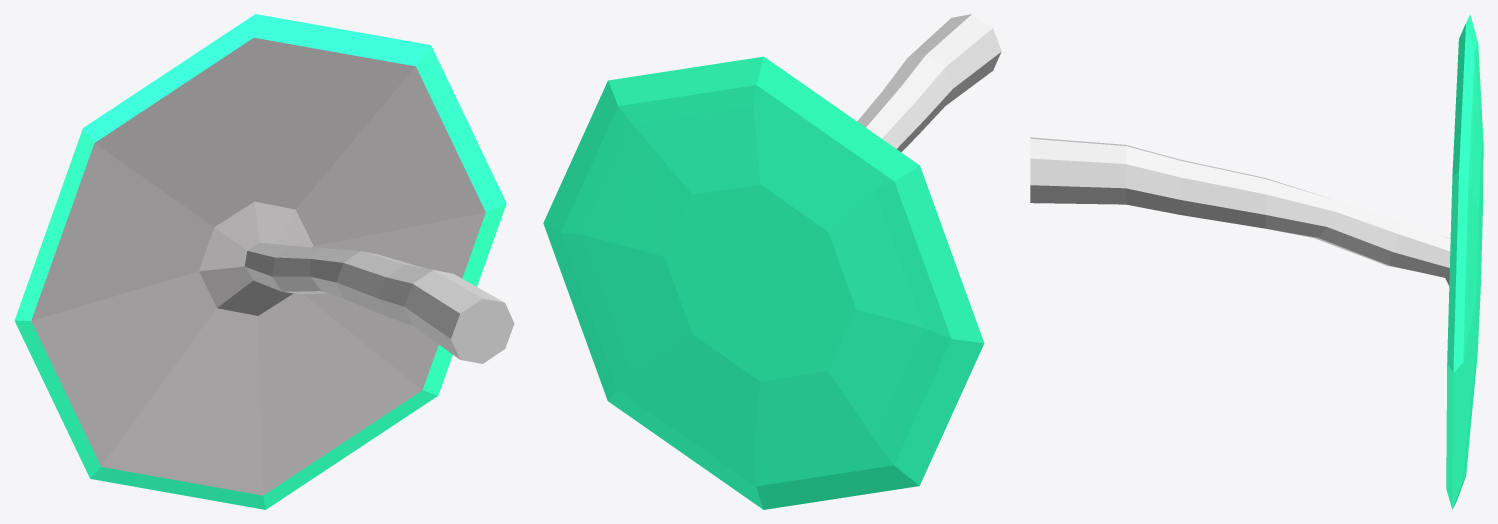
Rendered from Mushroom_3_Tall.fbx.
3 renders of one model, left to right at view 1: azimuth 30°, elevation 25°; view 2: azimuth 150°, elevation 25°; view 3: azimuth 270°, elevation 25°, orthographic. The views are drawn at different scales.
Visible parts, largest first — view 1: Mushroom_3_Tall; view 2: Mushroom_3_Tall; view 3: Mushroom_3_Tall.
Boxes of the visible parts, x1,y1,x2,y2 form: Mushroom_3_Tall: [14, 14, 514, 509]; Mushroom_3_Tall: [543, 14, 1001, 509]; Mushroom_3_Tall: [1030, 14, 1483, 509].
Size of the model in its own units: 139 by 136 by 117.
